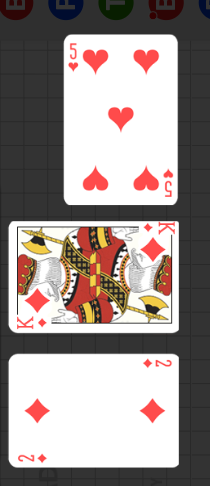2D: (17, 452, 49, 464)
5H: (162, 167, 175, 199), (67, 42, 80, 74)
